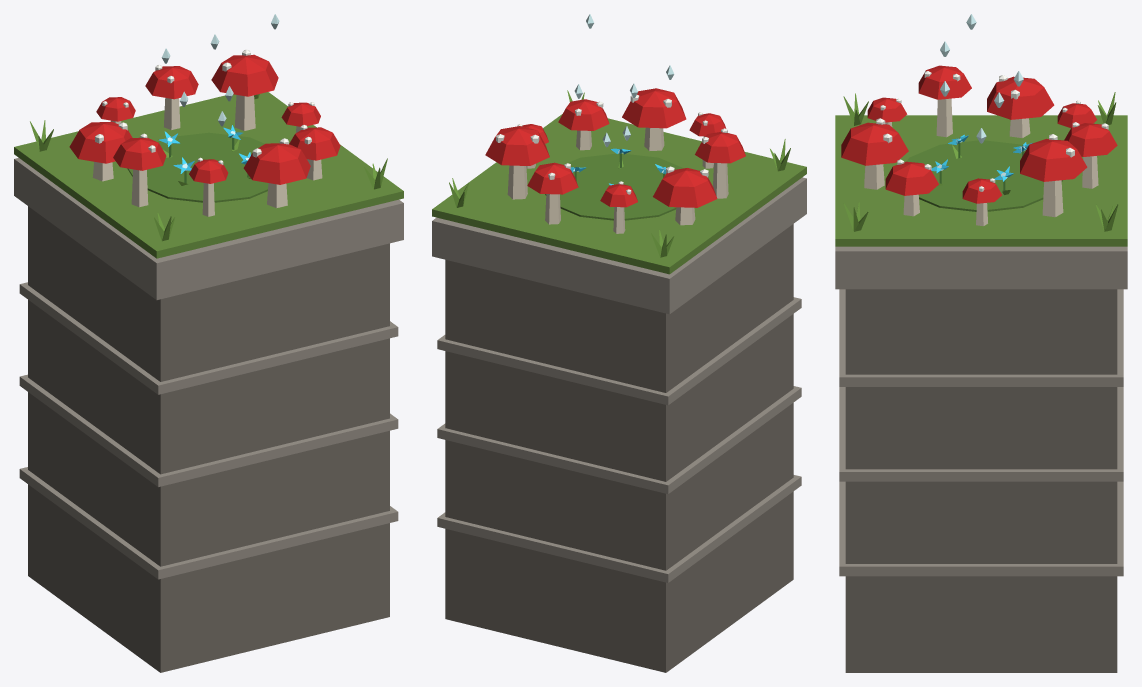
The model's file is decor_fairy_ring.glb.
The picture shows the model from 3 angles, left to right: view 1: azimuth 30°, elevation 25°; view 2: azimuth 150°, elevation 25°; view 3: azimuth 270°, elevation 25°; orthographic projection. The views are drawn at different scales.
Visible parts, largest first — view 1: decor_fairy_ring; view 2: decor_fairy_ring; view 3: decor_fairy_ring.
Part boxes in pixels (x1,y1,x2,y2): decor_fairy_ring: (14, 14, 403, 672); decor_fairy_ring: (432, 14, 806, 672); decor_fairy_ring: (835, 14, 1127, 672).
Bounding box in the file's own units: 2.8 × 6.32 × 2.8.
